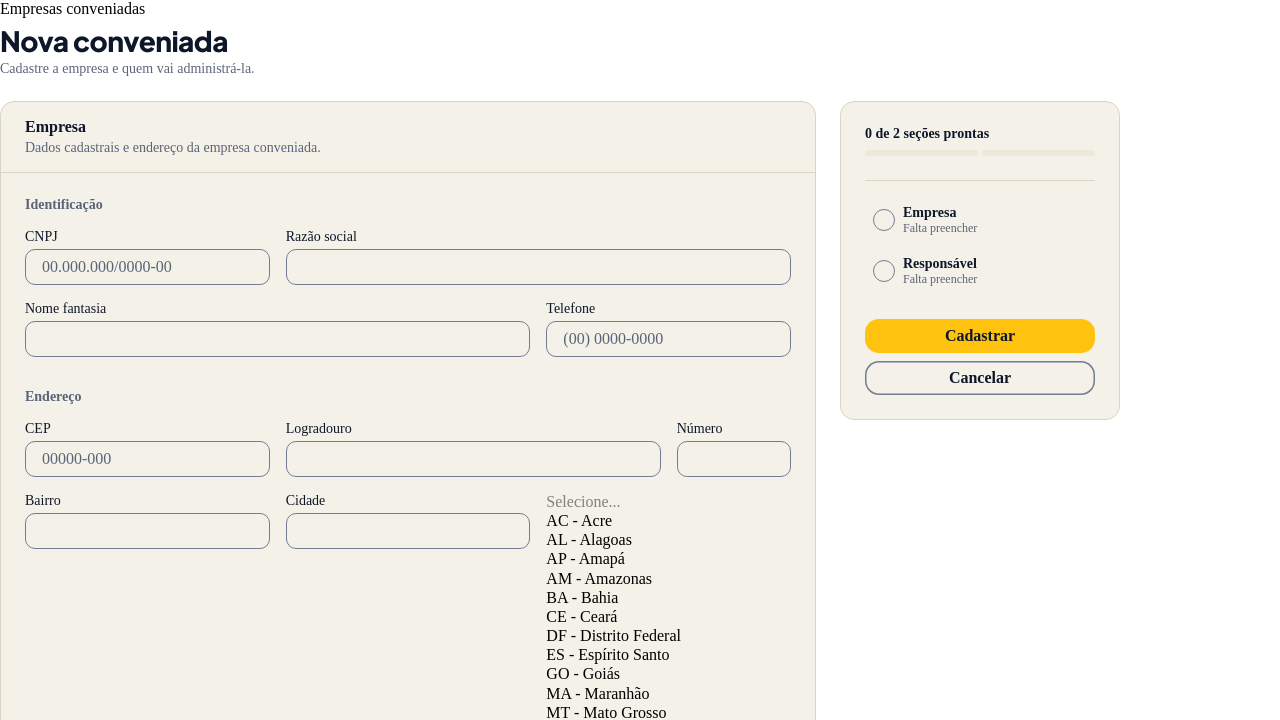
NovaConveniada › sinaliza os campos vazios e não envia
This screenshot has width=1280, height=720.
Click the button "Cadastrar" at (980, 336), box 865,319 -> 1095,353
(page scrolled)
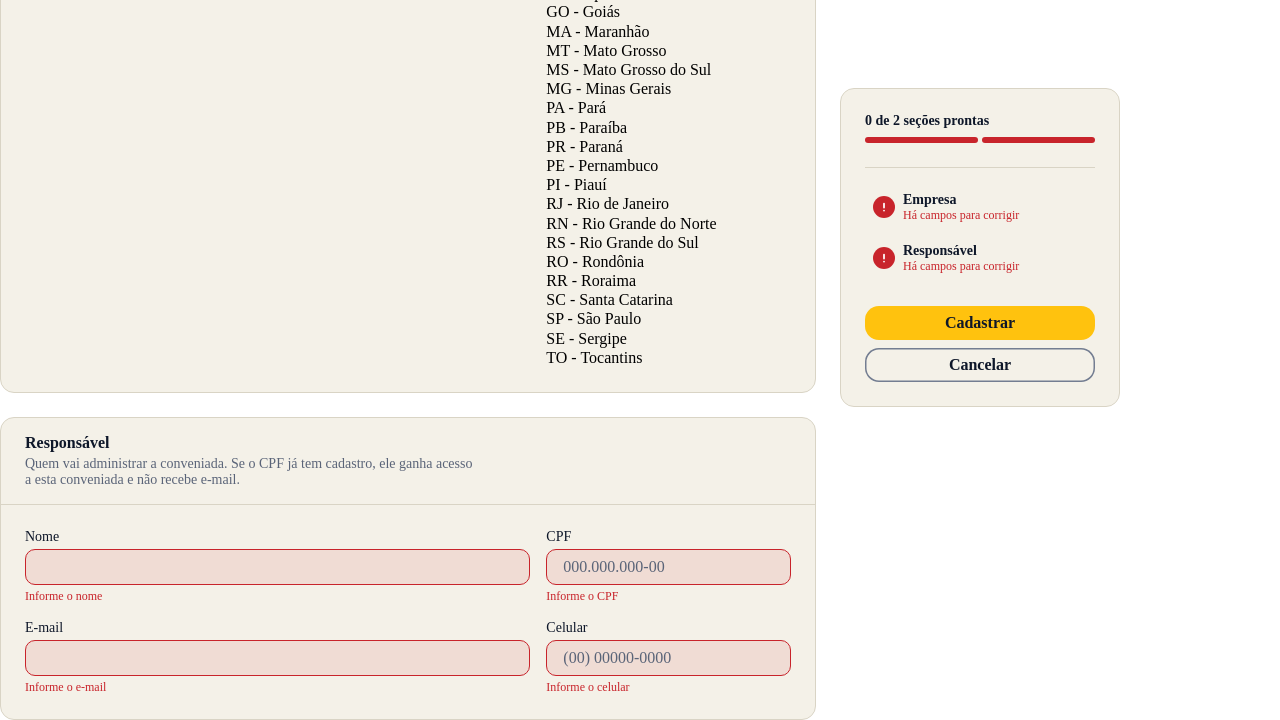
Now the text "Informe o CPF" is shown, box 546,589 -> 618,603
